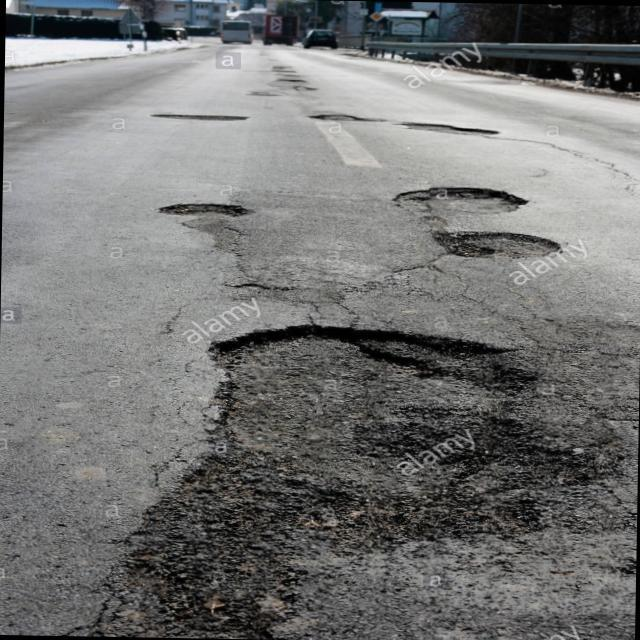Pothole: (130, 314, 594, 622), (422, 224, 576, 274), (393, 176, 531, 224), (397, 116, 502, 140), (153, 196, 253, 221), (306, 110, 384, 126), (162, 110, 244, 120), (274, 78, 312, 86), (249, 88, 276, 99), (289, 84, 324, 92)
